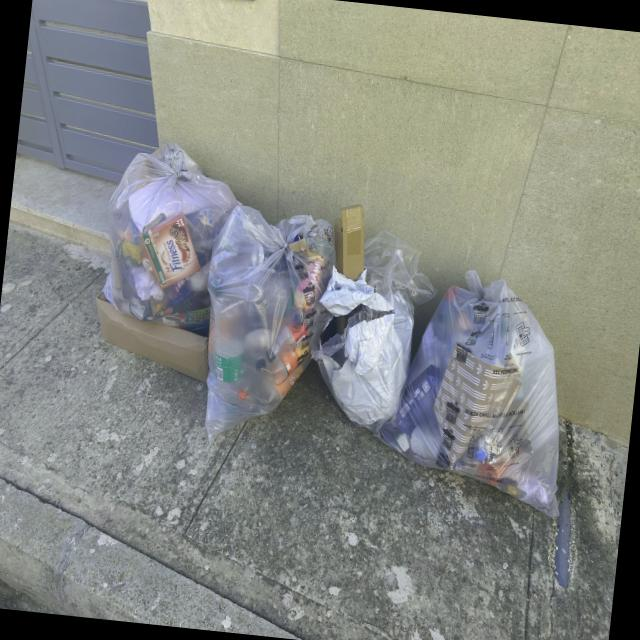grey_bag: (372, 254, 590, 523), (193, 180, 337, 460), (94, 132, 250, 332), (308, 194, 429, 434)
